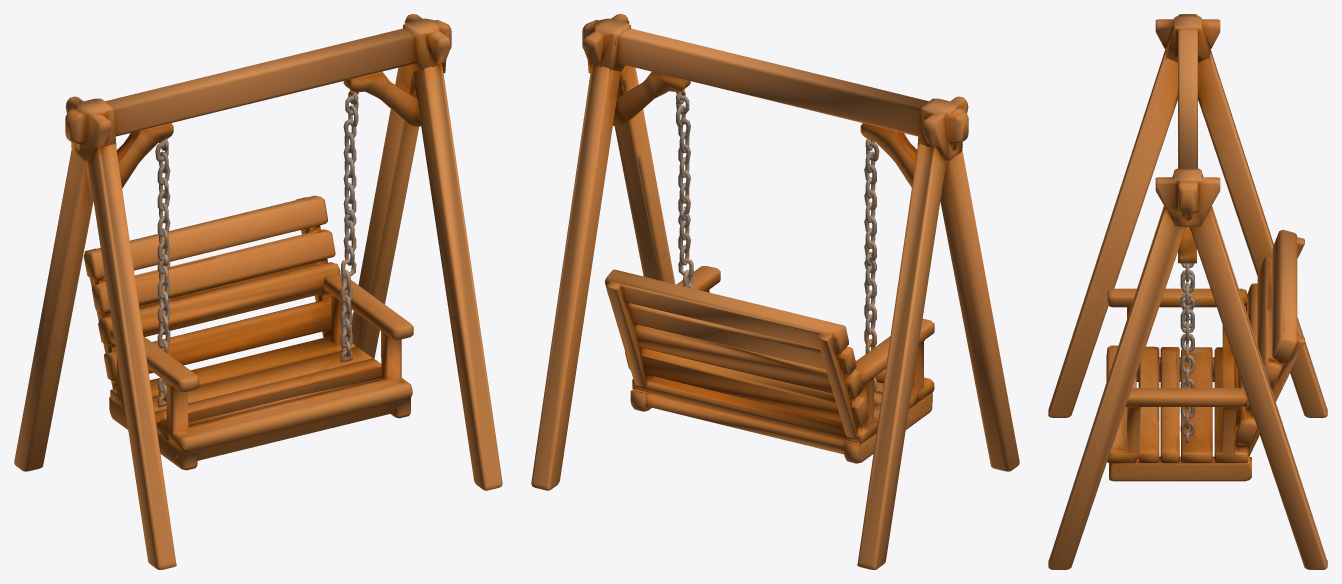
Rendered from Outdoor__a_wooden_swing_set_5251929e_v2.cluster.glb.
3 renders of one model, left to right at view 1: azimuth 30°, elevation 25°; view 2: azimuth 150°, elevation 25°; view 3: azimuth 270°, elevation 25°, orthographic. The views are drawn at different scales.
Parts seen in each view (by area): view 1: material; view 2: material; view 3: material.
Boxes of the visible parts, x1,y1,x2,y2 form: material: (14,14,502,569); material: (531,14,1019,569); material: (1048,14,1327,569).
Bounding box in the file's own units: 1.83 × 1.9 × 1.22.
1 material, 1 textured.
